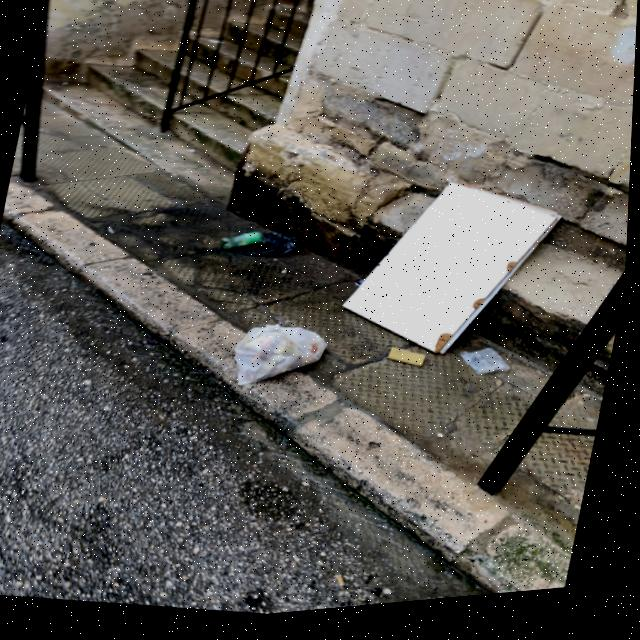Organic Waste -White Bag-: (228, 320, 332, 408)
Other: (340, 170, 571, 385), (221, 222, 287, 267), (461, 352, 519, 392), (390, 349, 434, 379)
